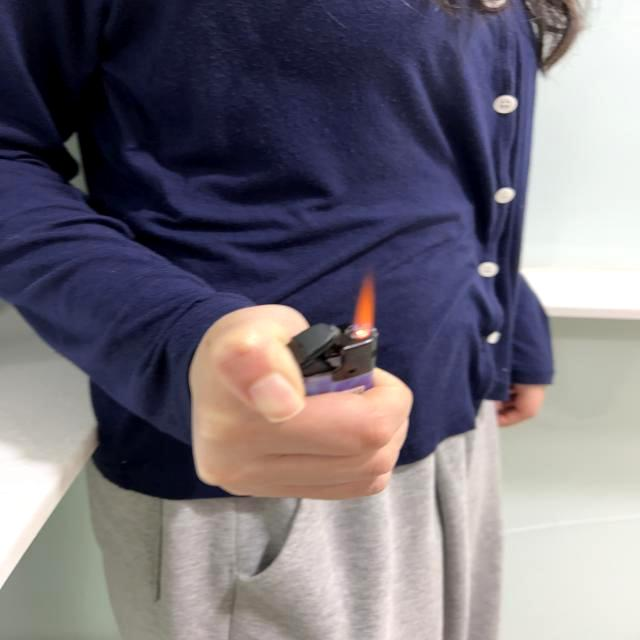fire: (347, 272, 375, 340)
